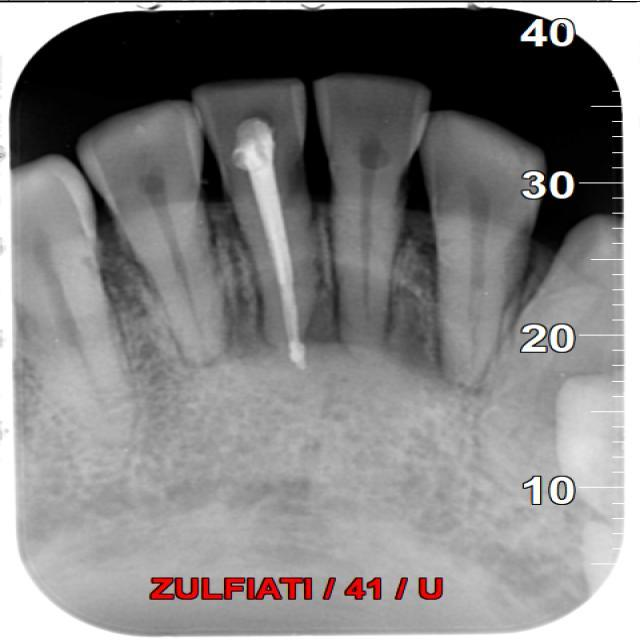individual-tooth-8tto: (69, 106, 222, 360), (195, 74, 321, 347), (314, 76, 427, 360), (426, 118, 536, 399)
